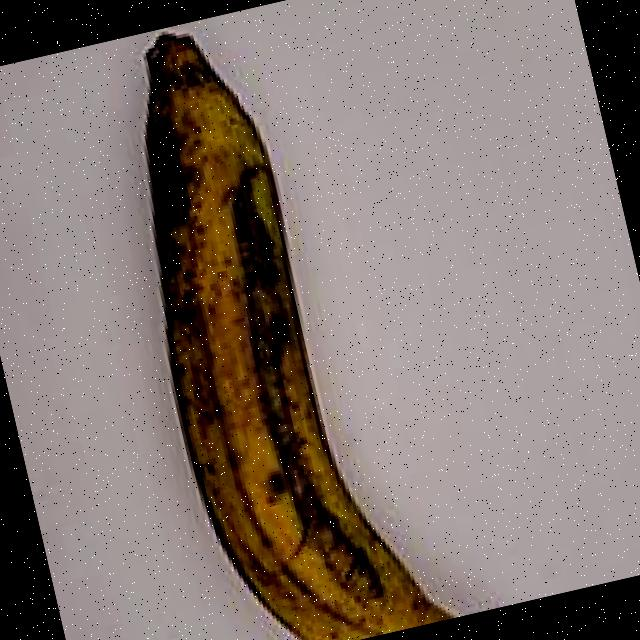Overripe: (37, 0, 545, 640)
